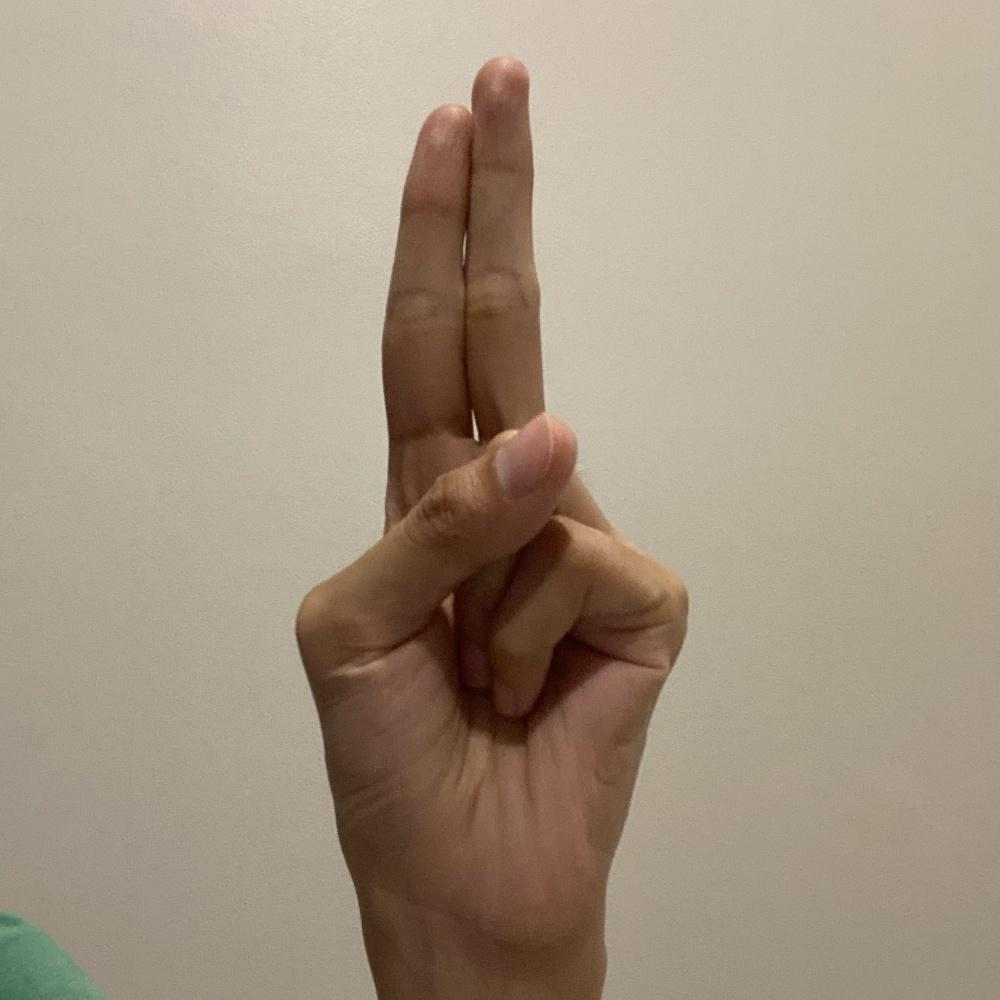u: (288, 48, 691, 959)
